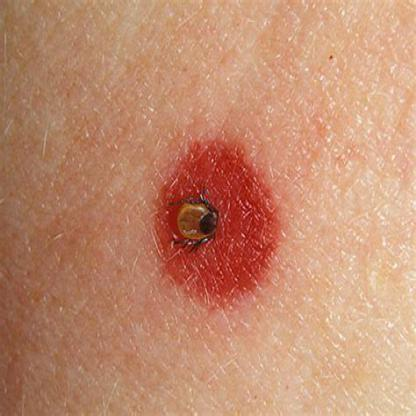Tick: (152, 136, 281, 308)
